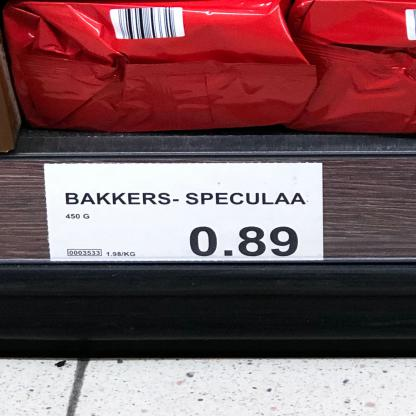prtg: (44, 164, 324, 262)
